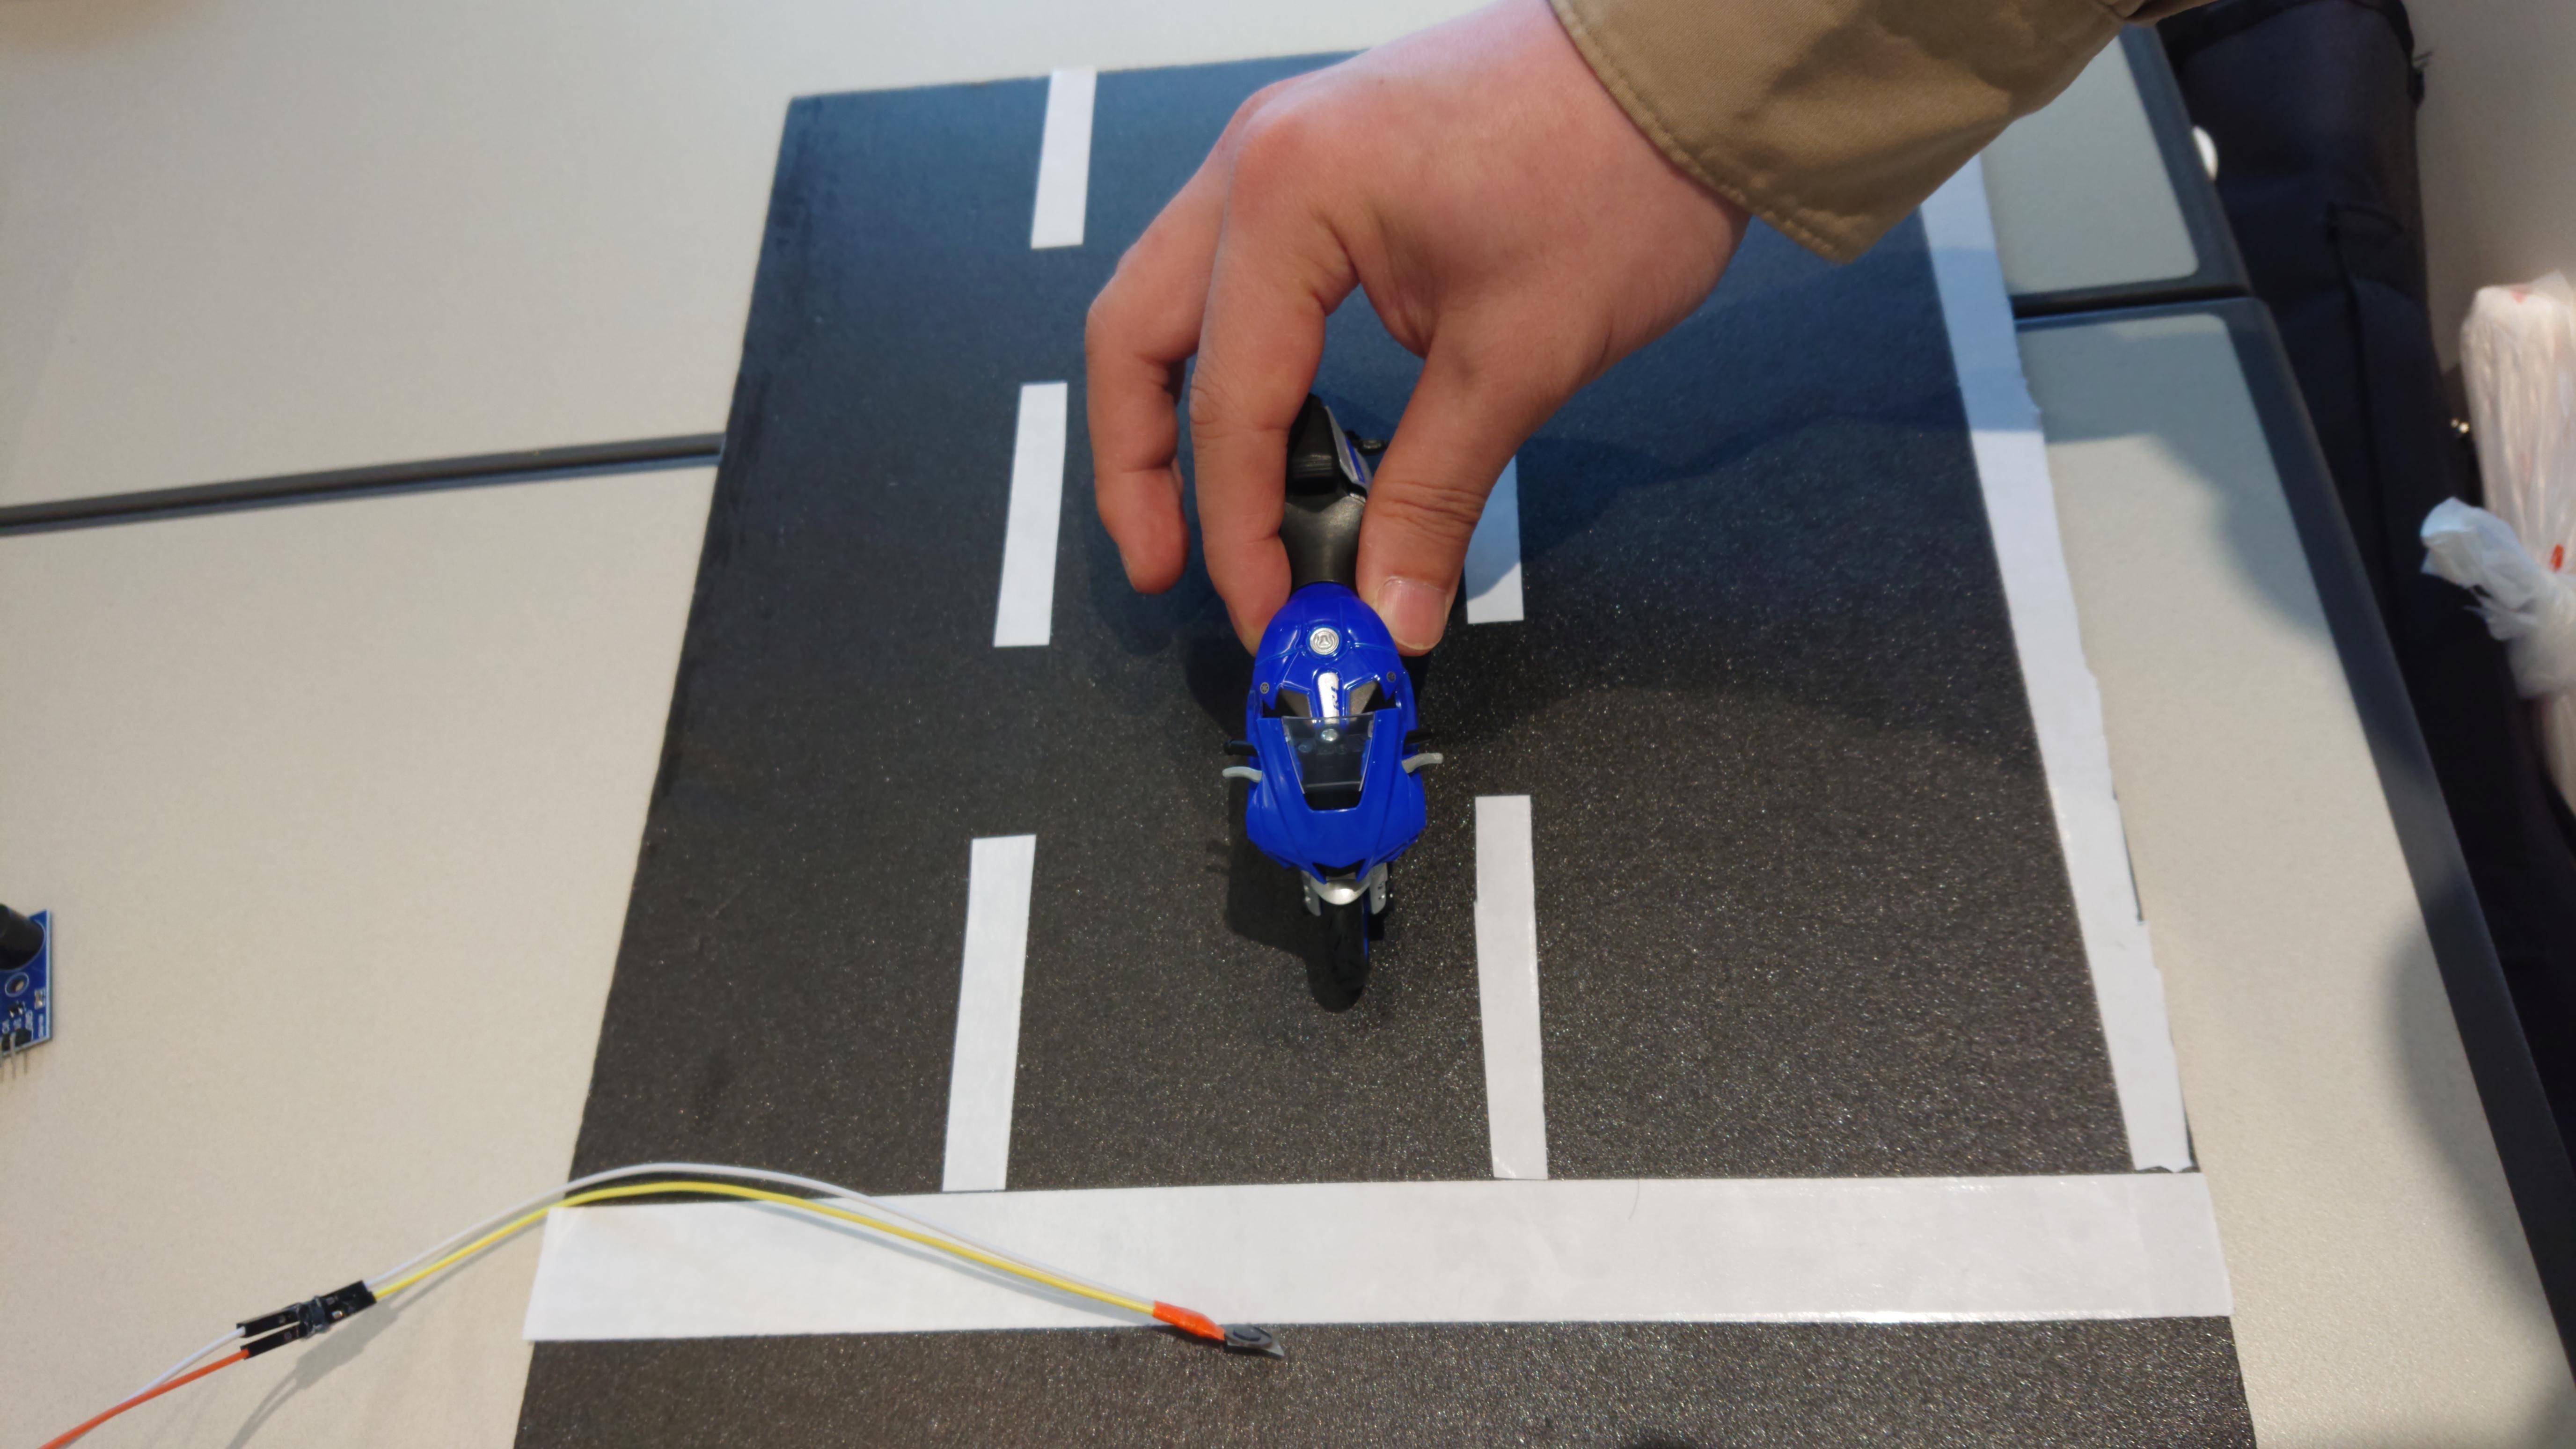Motorcycle: (1210, 375, 1453, 1030)
